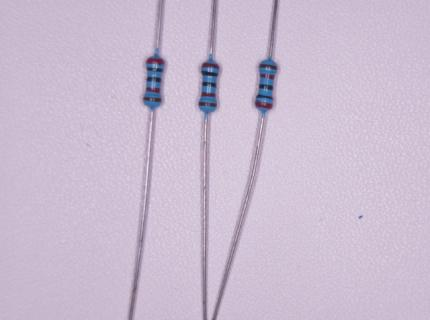Black band: (256, 94, 273, 99), (260, 84, 274, 90), (202, 71, 218, 76), (202, 82, 216, 87), (147, 77, 161, 82), (147, 68, 163, 72)
Brown band: (259, 64, 278, 70), (144, 97, 161, 102), (199, 102, 216, 106)
Red band: (255, 101, 273, 109), (260, 74, 275, 80), (147, 59, 164, 64), (202, 63, 219, 68), (145, 88, 159, 93), (201, 92, 215, 96)
